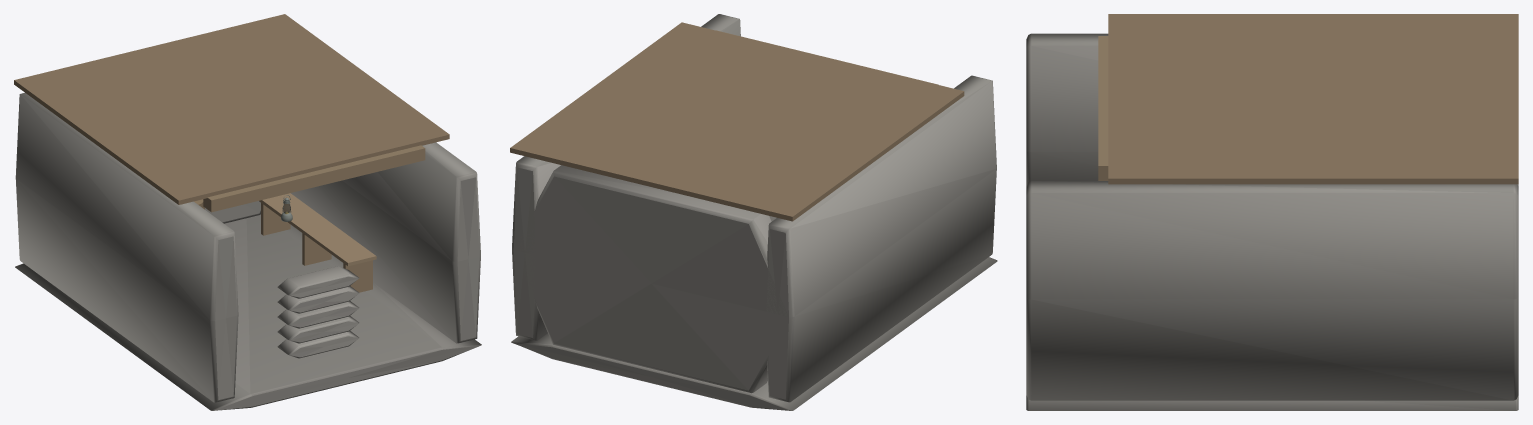
File: storm_shelter_interior_a.glb
3 views of the same model, side by side, from view 1: azimuth 30°, elevation 25°; view 2: azimuth 150°, elevation 25°; view 3: azimuth 270°, elevation 25° (orthographic). The views are drawn at different scales.
Visible parts, largest first — view 1: body; view 2: body; view 3: body.
Part boxes in pixels (x1,y1,x2,y2): body: (14,14,481,410); body: (510,14,997,410); body: (1026,14,1518,410).
Bounding box in the file's own units: 3.8 × 2.59 × 4.8.
